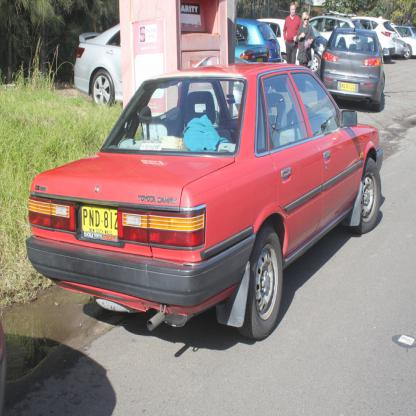Car: (25, 12, 416, 341)
